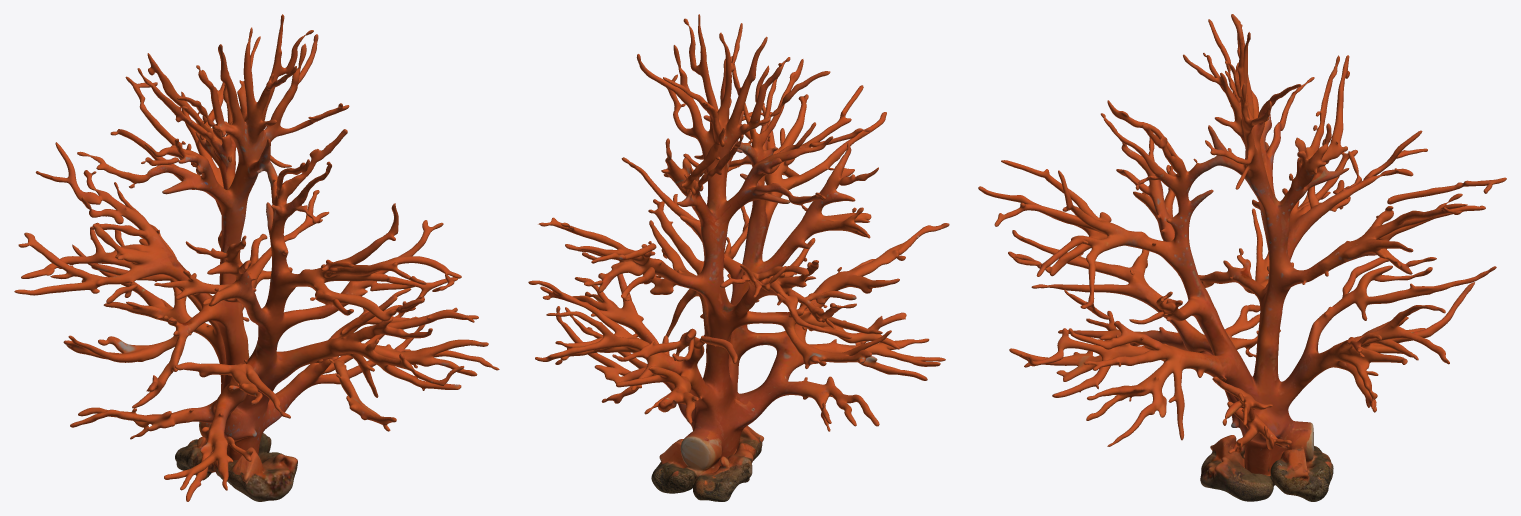
The model's file is coral_fan_b.glb.
The picture shows the model from 3 angles, left to right: view 1: azimuth 30°, elevation 25°; view 2: azimuth 150°, elevation 25°; view 3: azimuth 270°, elevation 25°; orthographic projection. The views are drawn at different scales.
Visible parts, largest first — view 1: tripo_node_5fa46838-a32f-4dc9-a47c-15c842c42cf5; view 2: tripo_node_5fa46838-a32f-4dc9-a47c-15c842c42cf5; view 3: tripo_node_5fa46838-a32f-4dc9-a47c-15c842c42cf5.
Boxes of the visible parts, left/top/right/bottom form: tripo_node_5fa46838-a32f-4dc9-a47c-15c842c42cf5: left=14, top=14, right=499, bottom=501; tripo_node_5fa46838-a32f-4dc9-a47c-15c842c42cf5: left=528, top=14, right=949, bottom=501; tripo_node_5fa46838-a32f-4dc9-a47c-15c842c42cf5: left=978, top=14, right=1506, bottom=501.
Bounding box in the file's own units: 0.8208 × 0.9716 × 1.
Materials: 1 (1 with a texture image).
